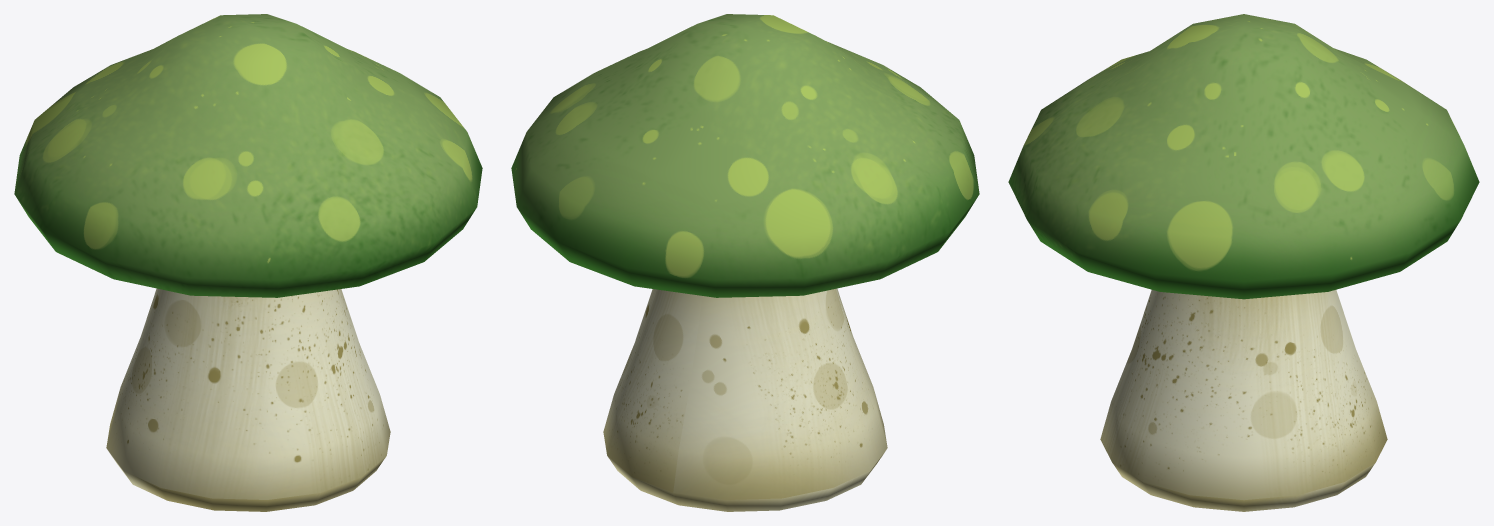
Rendered from greenMush.glb.
The picture shows the model from 3 angles, left to right: view 1: azimuth 30°, elevation 25°; view 2: azimuth 150°, elevation 25°; view 3: azimuth 270°, elevation 25°; orthographic projection.
Parts seen in each view (by area): view 1: MyceliumParentA; view 2: MyceliumParentA; view 3: MyceliumParentA.
Part boxes in pixels (x1=…): MyceliumParentA: x1=14, y1=14, x2=482, y2=511; MyceliumParentA: x1=511, y1=14, x2=979, y2=511; MyceliumParentA: x1=1008, y1=14, x2=1479, y2=511.
Size of the model in its own units: 0.1958 by 0.1984 by 0.1958.
1 material, 1 textured.
